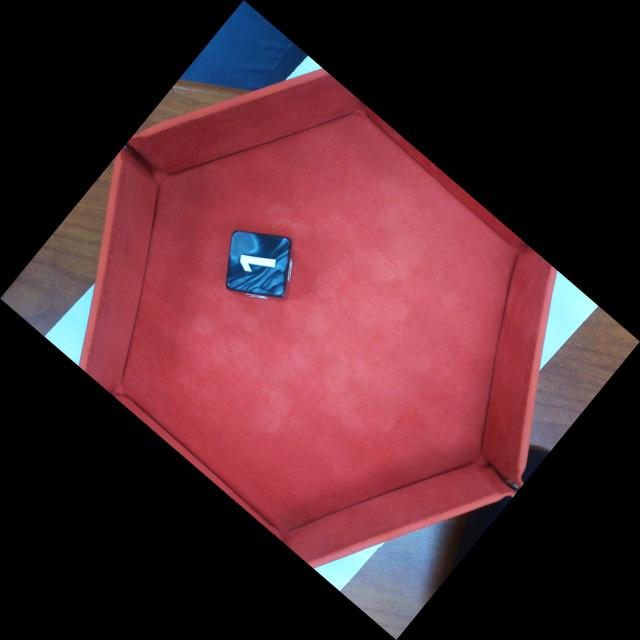dice: (225, 232, 291, 296)
